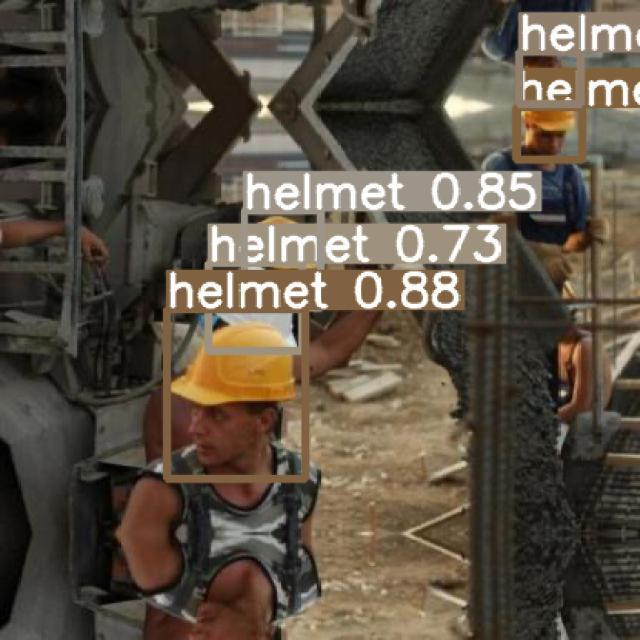yellow helmet: (169, 329, 298, 409), (522, 105, 578, 128)
